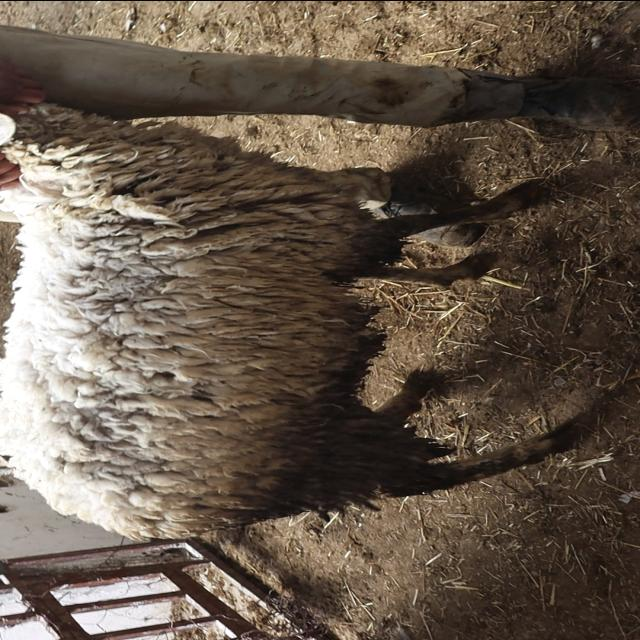Score_4: (0, 102, 577, 539)
